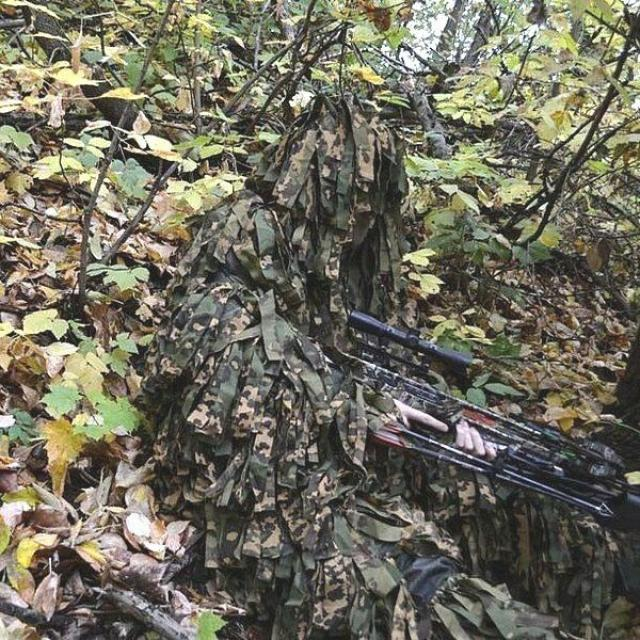Camouflage: (138, 96, 636, 621)
